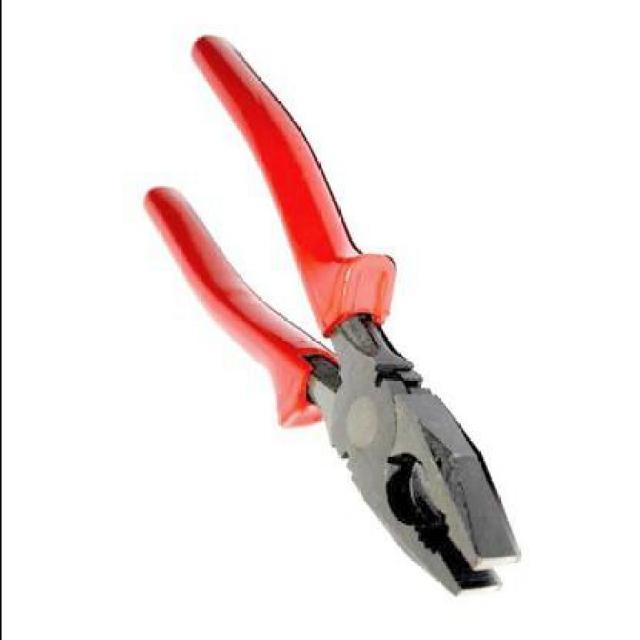pliers: (142, 31, 518, 598)
